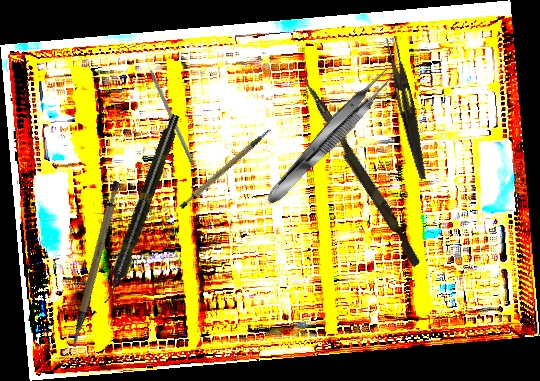Dressing Forceps: (380, 35, 434, 181)
Handpiece: (99, 112, 184, 307)
Hook Surgical: (143, 55, 195, 164)
Pusher: (294, 76, 426, 268)
Scalpel Handle: (45, 179, 142, 348), (170, 127, 283, 211)
Tissue Forceps: (260, 63, 399, 210)
